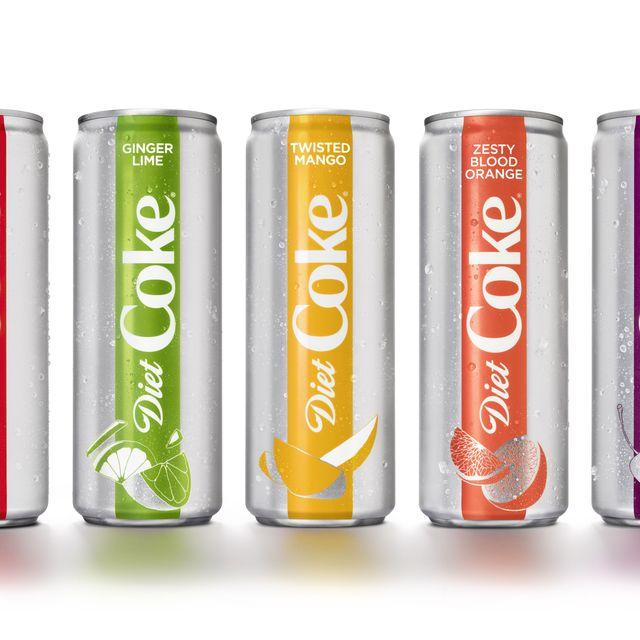can: (239, 106, 396, 539), (70, 103, 225, 530), (416, 101, 567, 533)
